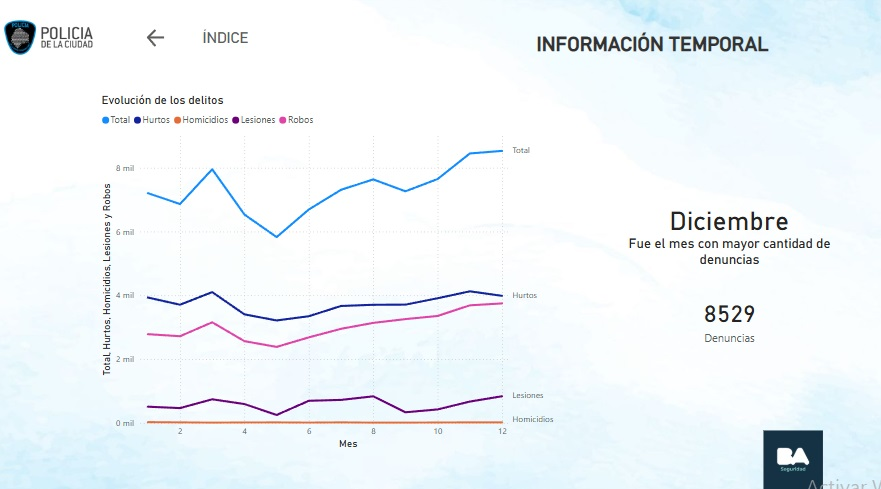

Layout of this report page (visuals, bound fields, positions):
{"tool":"powerbi","page":{"name":"Página 5","canvas":[1280,720],"ordinal":6},"visuals":[{"type":"image","box":[0,0,142.9,122.9],"z":0},{"type":"image","box":[1100,624.3,95.7,95.7],"z":1000},{"type":"textbox","box":[674.3,48.6,542.9,58.6],"z":2000},{"type":"lineChart","title":"Evolución de los delitos","fields":{"Y":["CountNonNull(Casos.id_registro)","TablaMedidas.Cantidad_Hurtos","TablaMedidas.Cantidad_Homicidios","TablaMedidas.Cantidad_Lesiones","TablaMedidas.Cantidad_Robos","TablaMedidas.Variacion_Mes_A_Mes"],"Category":["Calendario.Mes"]},"box":[86.7,141.7,818.3,543.6],"z":3000},{"type":"card","fields":{"Values":["TablaMedidas.Delitos_Diciembre"]},"box":[987.5,271.8,137.3,99.8],"z":4000},{"type":"actionButton","box":[206.7,41.9,70.8,40.5],"z":5000},{"type":"actionButton","box":[277.6,41.9,99.8,40.5],"z":6000},{"type":"card","fields":{"Values":["TablaMedidas.MesMasDenuncias"]},"box":[853,141.7,407.7,150.4],"z":7000},{"type":"card","fields":{"Values":["TablaMedidas.mesMenosDenuncias"]},"box":[905.1,381.7,290.6,115.7],"z":8000},{"type":"card","fields":{"Values":["TablaMedidas.Delitos_Mayo"]},"box":[949.9,487.2,214,109.9],"z":9000}]}

Visuals, with their boxes on the page's 1280x720 design canvas (x1, y1, x2, y2). These are canvas units, not pixel positions in the 881x489 screenshot, which may show the page scaled, cropped or inside an application window:
image: (x1=0, y1=0, x2=143, y2=123)
image: (x1=1100, y1=624, x2=1196, y2=720)
textbox: (x1=674, y1=49, x2=1217, y2=107)
"Evolución de los delitos" lineChart: (x1=87, y1=142, x2=905, y2=685)
card - TablaMedidas.Delitos_Diciembre: (x1=988, y1=272, x2=1125, y2=372)
actionButton: (x1=207, y1=42, x2=278, y2=82)
actionButton: (x1=278, y1=42, x2=377, y2=82)
card - TablaMedidas.MesMasDenuncias: (x1=853, y1=142, x2=1261, y2=292)
card - TablaMedidas.mesMenosDenuncias: (x1=905, y1=382, x2=1196, y2=497)
card - TablaMedidas.Delitos_Mayo: (x1=950, y1=487, x2=1164, y2=597)
